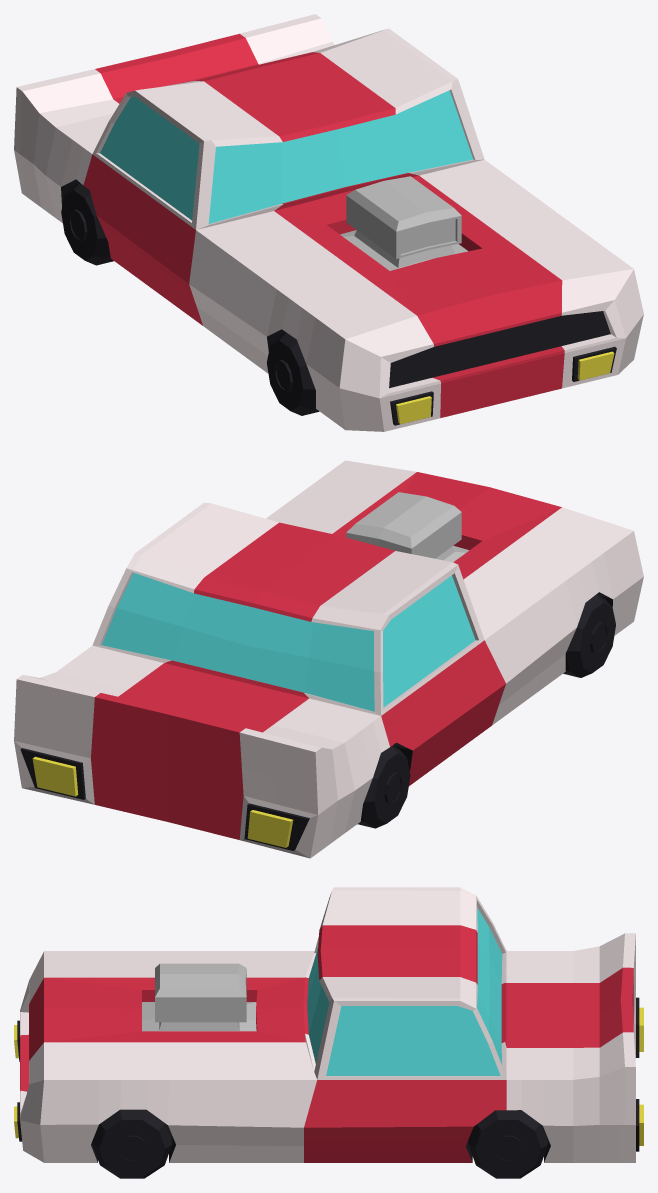
Rendered from race1.fbx.
3 views of the same model, one above another, from view 1: azimuth 30°, elevation 25°; view 2: azimuth 150°, elevation 25°; view 3: azimuth 270°, elevation 25° (orthographic). The views are drawn at different scales.
Visible parts, largest first — view 1: Cube; view 2: Cube; view 3: Cube.
Part boxes in pixels (x1=…): Cube: x1=14, y1=14, x2=643, y2=431; Cube: x1=14, y1=460, x2=643, y2=858; Cube: x1=14, y1=887, x2=643, y2=1178.
Bounding box in the file's own units: 57.8 × 31.97 × 108.
1 material, 1 textured.
